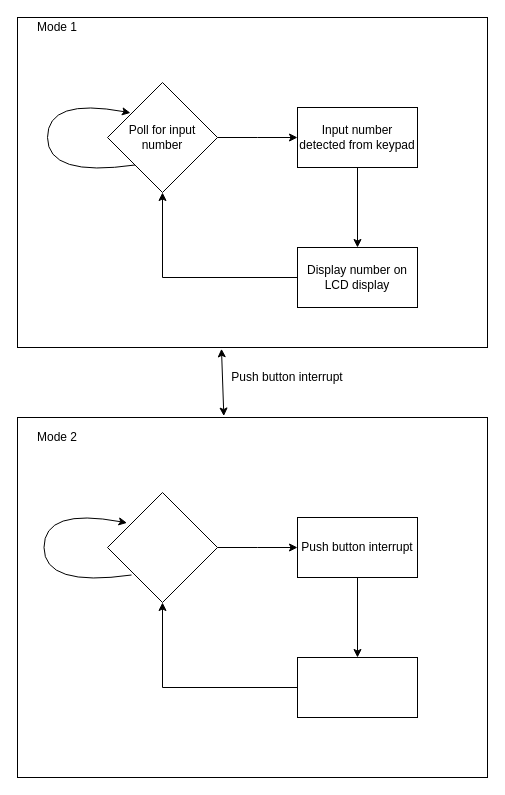
The diagram is 505 pixels wide and 795 high, and some of its shapes have lost their labels. Each missing label, with the centre of its shape:
"Light up LED and stop stepper motor" belongs at pixel 357 687.
"Run Stepper motor Flash axes on LCD" belongs at pixel 162 547.
